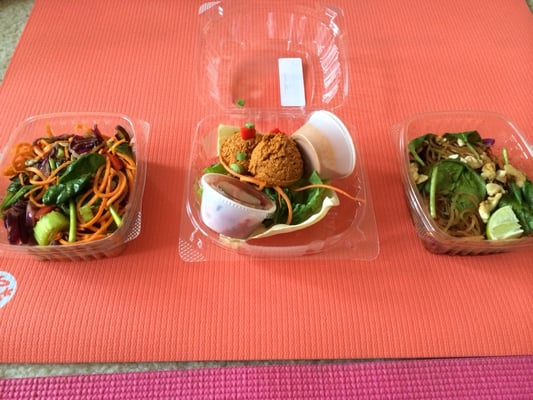sushi: (187, 114, 362, 252), (0, 111, 149, 261), (400, 110, 533, 257)
